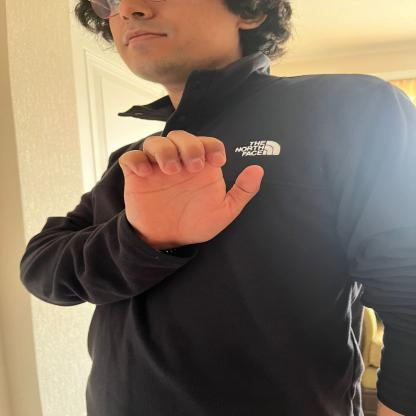E: (115, 127, 272, 242)
